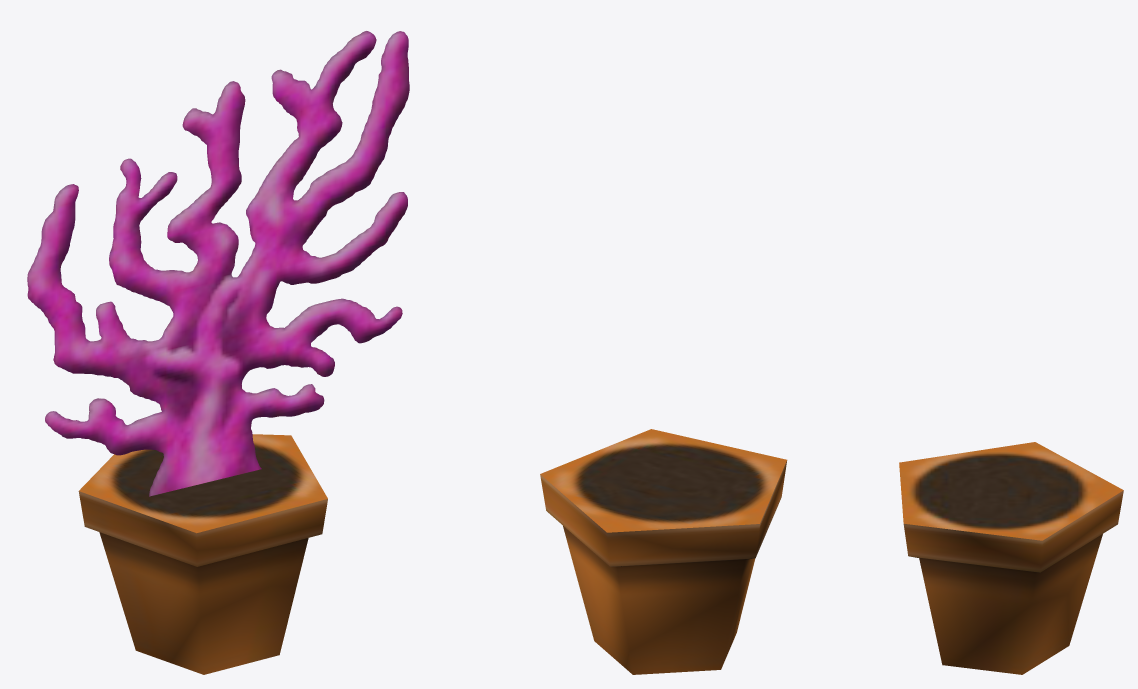
File: UWcoralVase.glb
3 renders of one model, left to right at view 1: azimuth 30°, elevation 25°; view 2: azimuth 150°, elevation 25°; view 3: azimuth 270°, elevation 25°, orthographic. The views are drawn at different scales.
Visible parts, largest first — view 1: coral__billboard, pot; view 2: pot; view 3: pot.
Boxes of the visible parts, x1,y1,x2,y2 form: coral__billboard: (27,31,409,496); pot: (78,434,327,674); pot: (540,429,787,674); pot: (899,442,1123,674).
Bounding box in the file's own units: 1.93 × 2.57 × 0.9658.
Materials: 3 (3 with a texture image).
